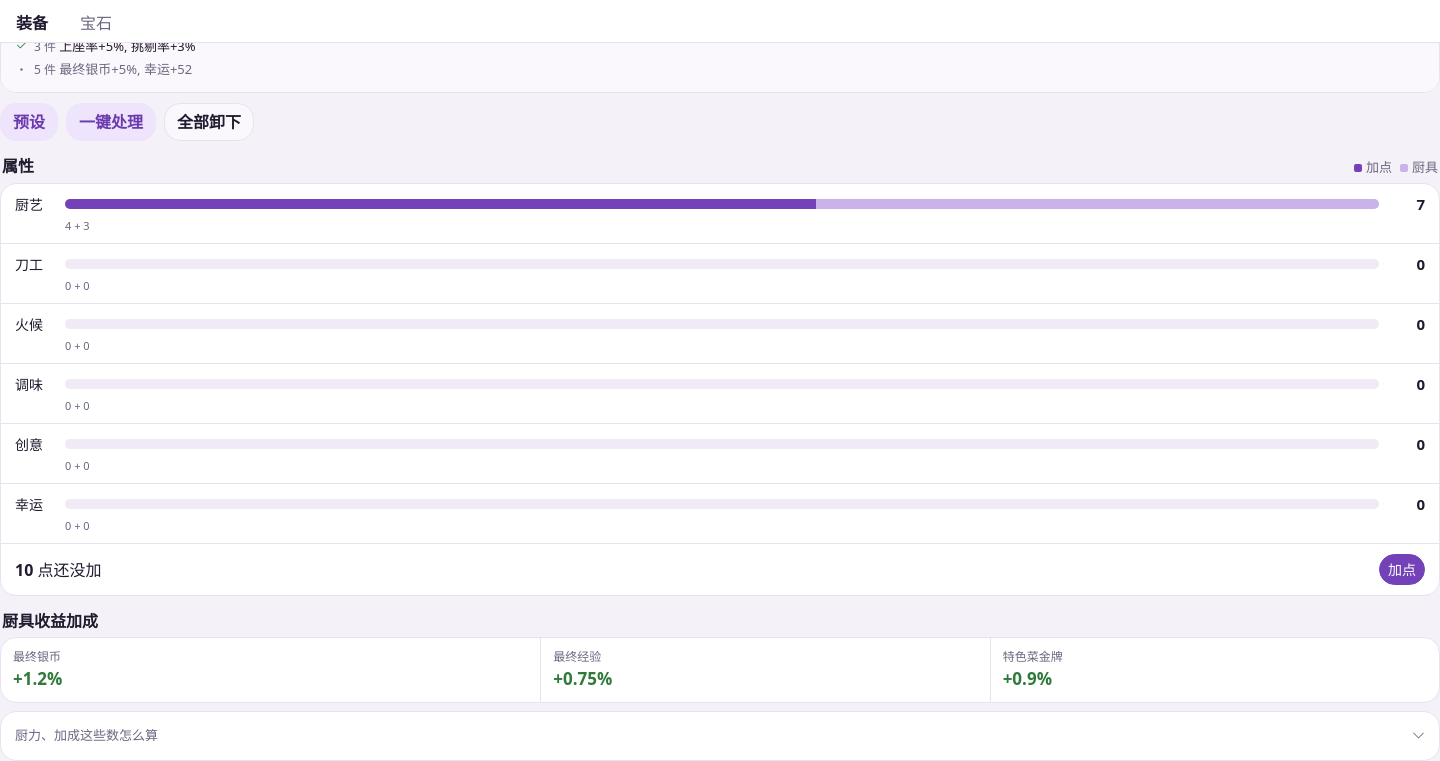
it: EquipView › 每格最多填剩下的点数，超了自动退回；剩余点数跟着输入减少；“全加”把剩下的都填进这一格（问题记录 557）
The width and height of the screenshot is (1440, 761).
(page scrolled)
Click the button with test id "open-points".
click(1402, 570)  # box [1379,554,1425,585]
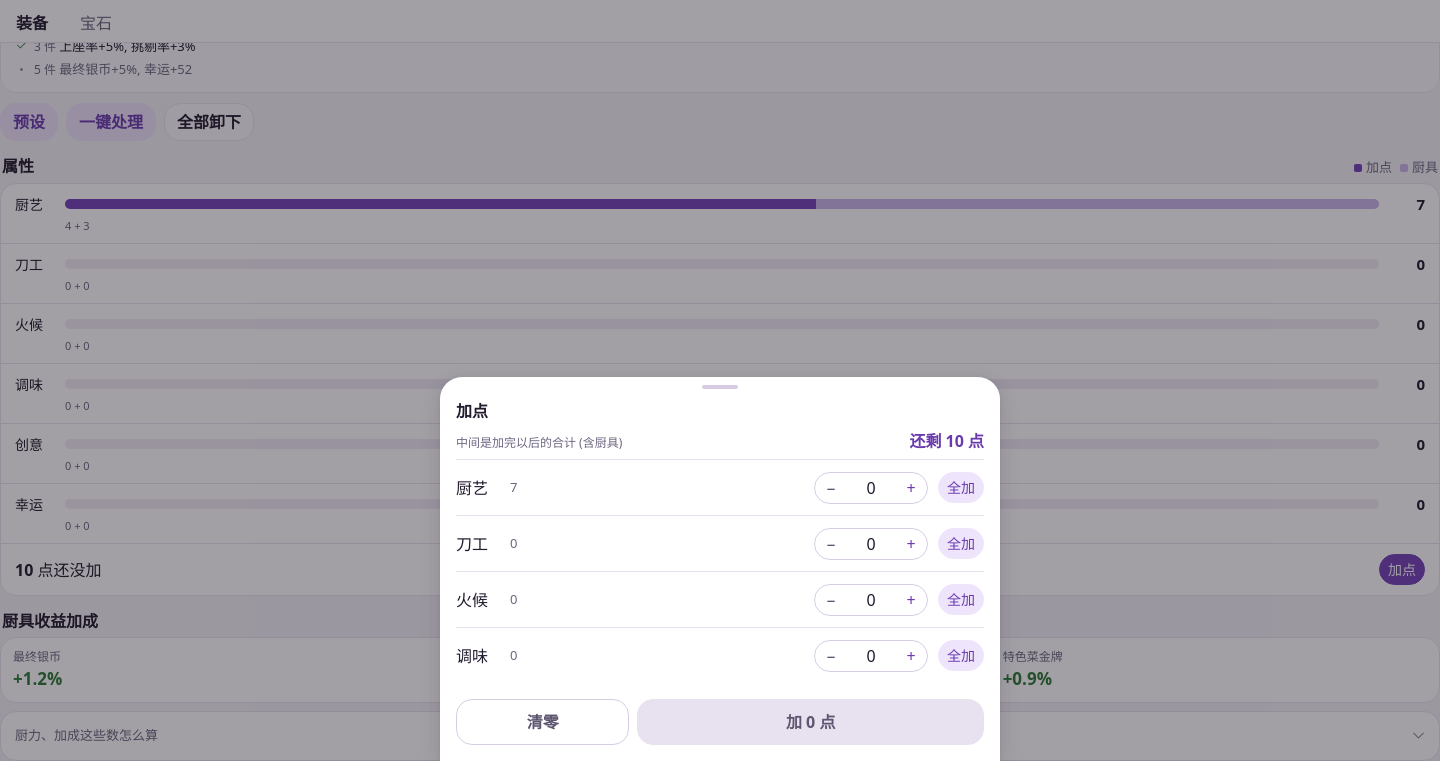
Replace the text in the number field with test id "add-cook" with "99" at (871, 488), box [847,472,895,502]
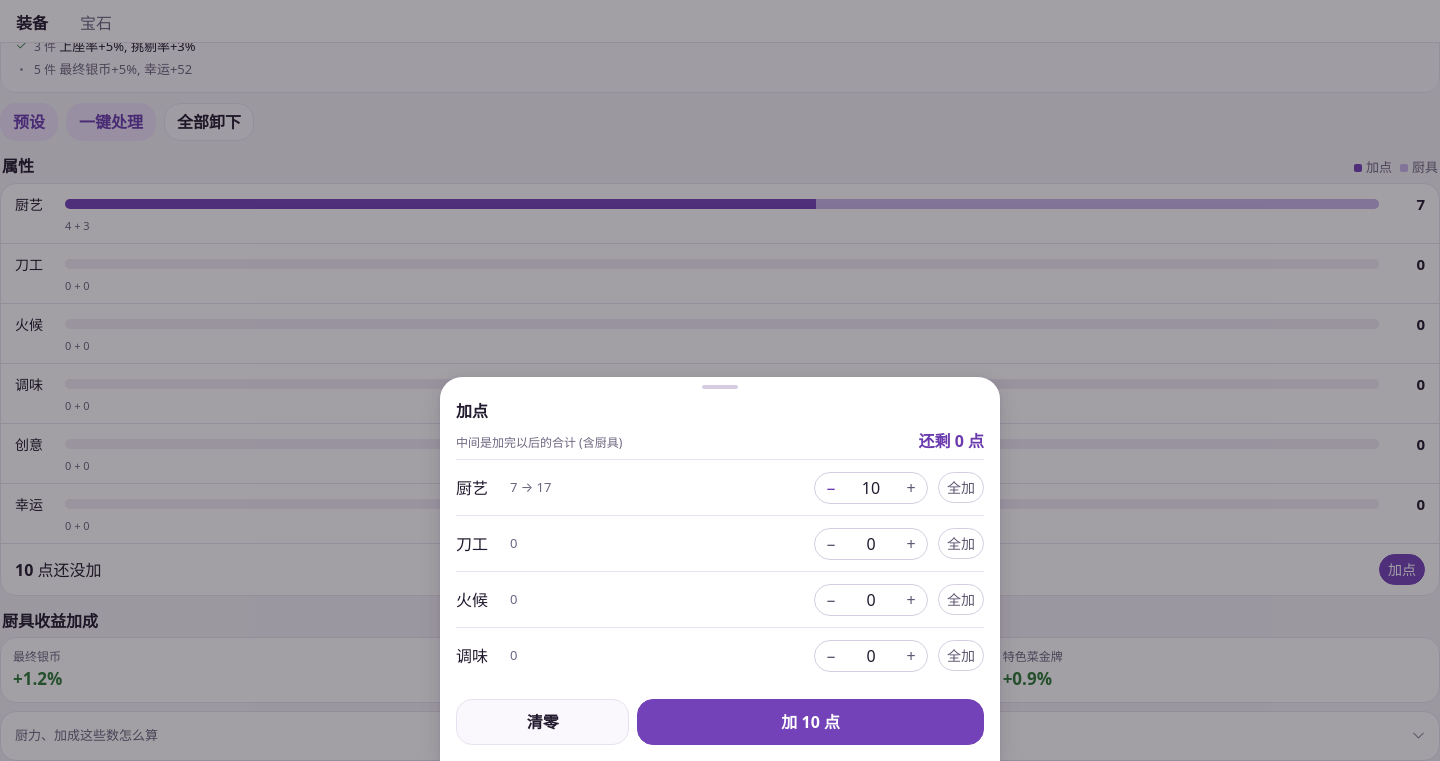
Expected: the number field with test id "add-cook" holds "10"
Replace the text in the number field with test id "add-cook" with "7" at (871, 488), box [847,472,895,502]
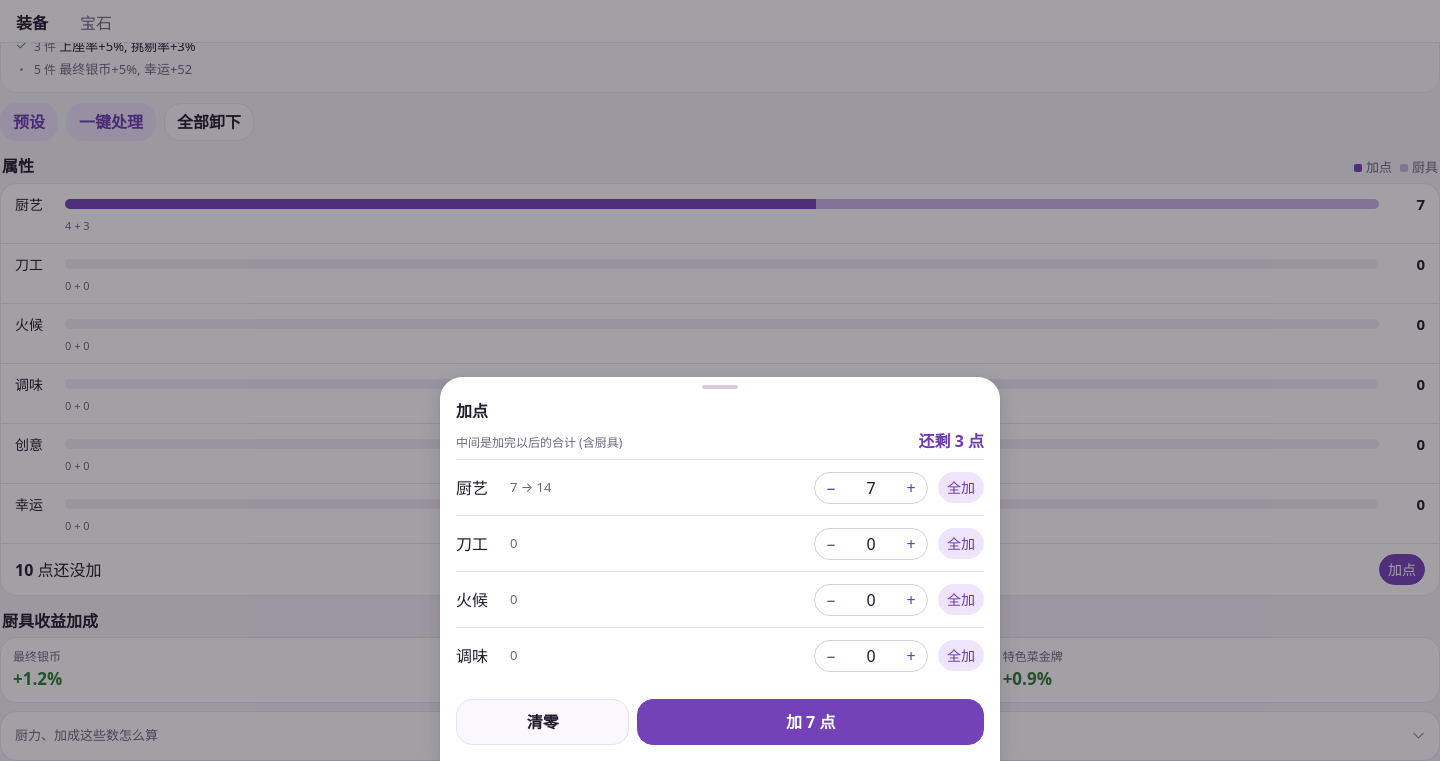
Expected: the text with test id "attr-left" reads "还剩 3 点", [918,430,984,452]
Replace the text in the number field with test id "add-cutting" with "8" at (871, 544), box [847,528,895,558]
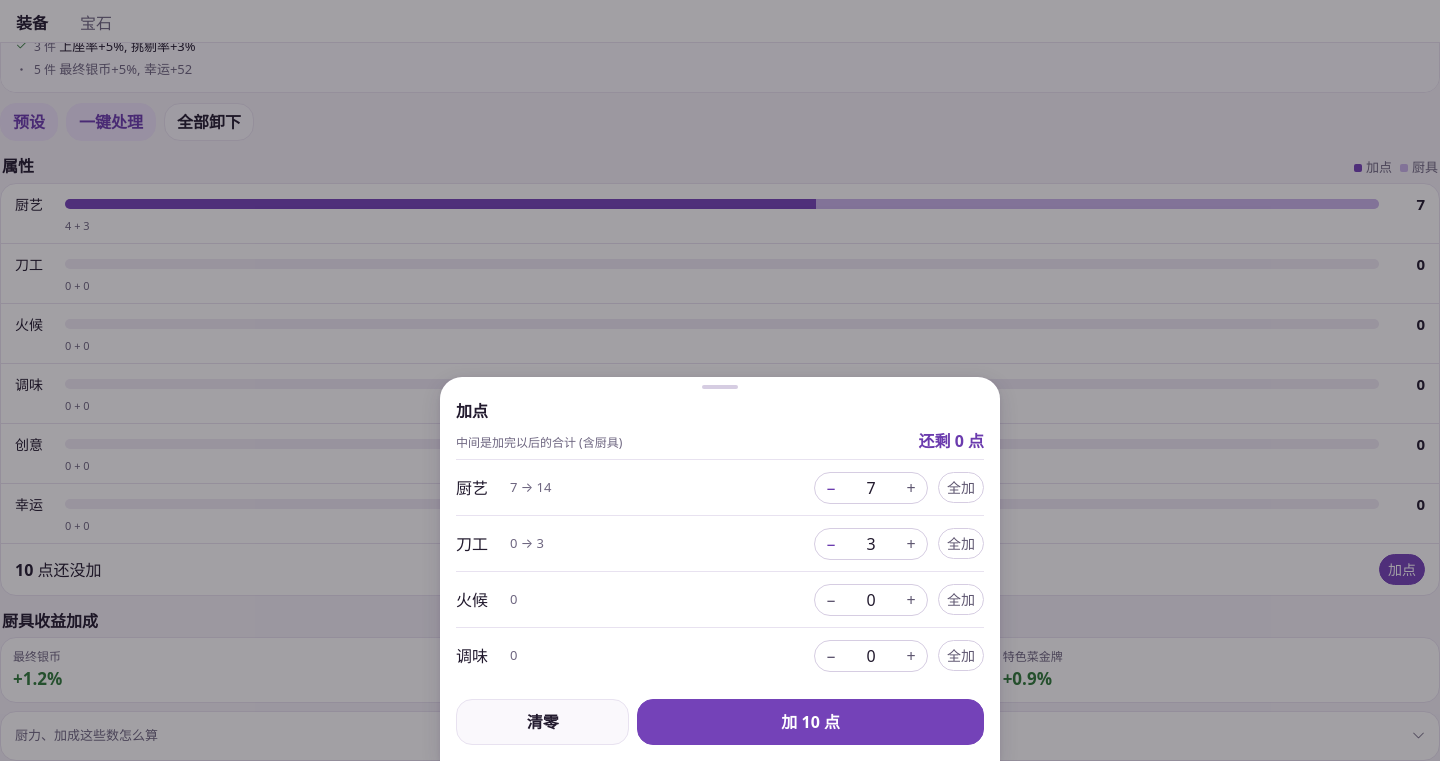
Expected: the number field with test id "add-cutting" holds "3"
Expected: the text with test id "attr-left" reads "还剩 0 点", [918,430,984,452]
# 步进器里清空在失焦时才算 0（界面改版 P3）
Clear the number field with test id "add-cutting" at (871, 544), box [847,528,895,558]
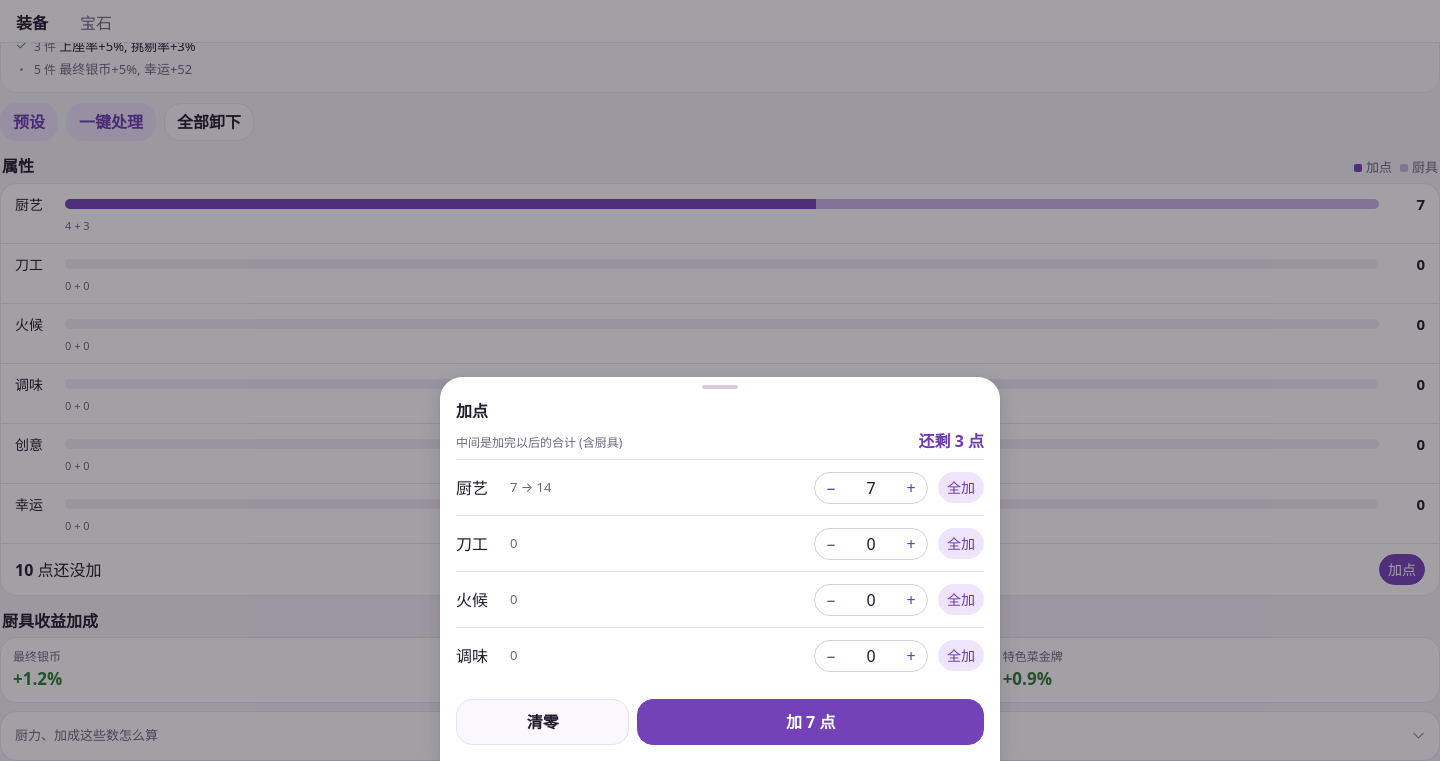
Click the button with test id "all-fire".
click(961, 600)  # box [938,584,984,615]
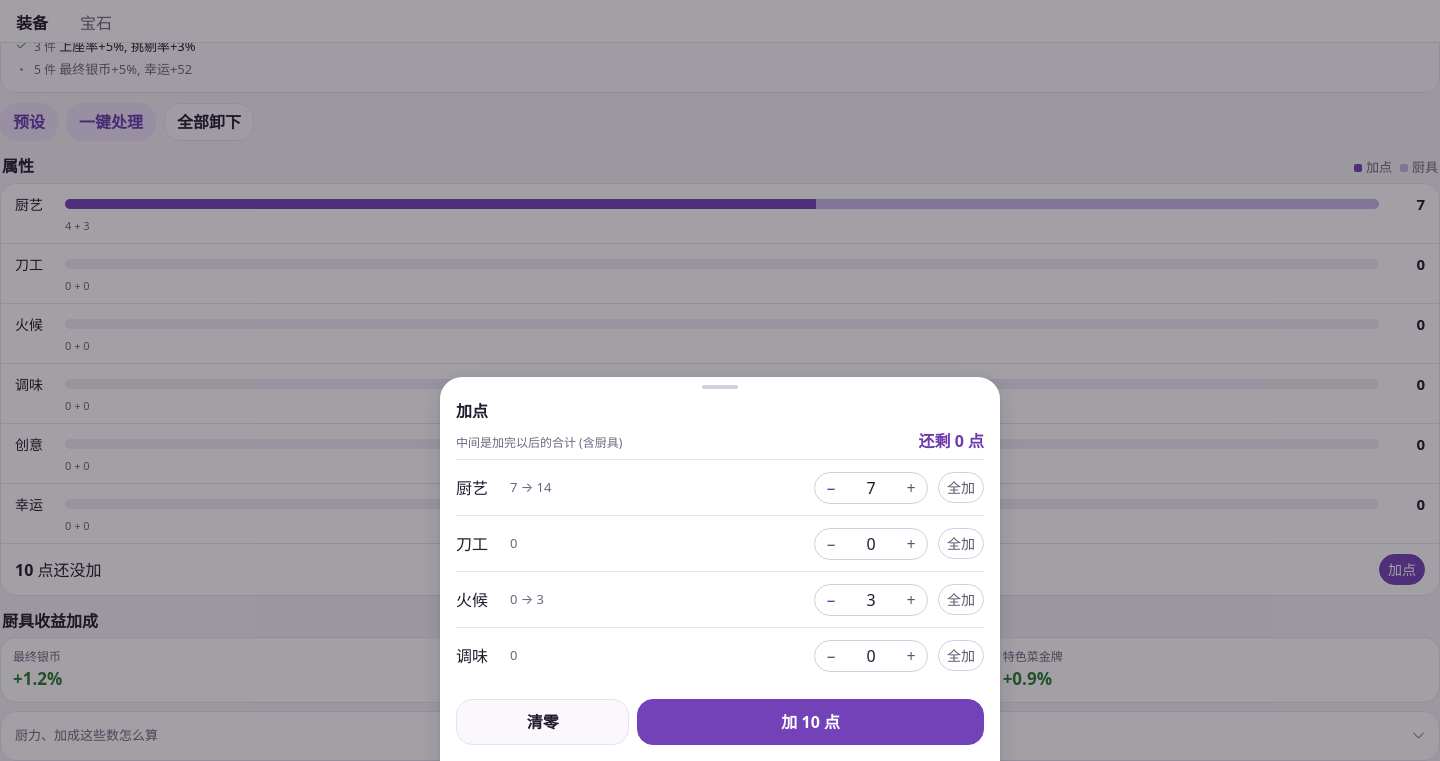
Expected: the button with test id "allocate" is enabled, [637,699,984,745]
Expected: the button with test id "allocate" reads "加 10 点", [637,699,984,745]
